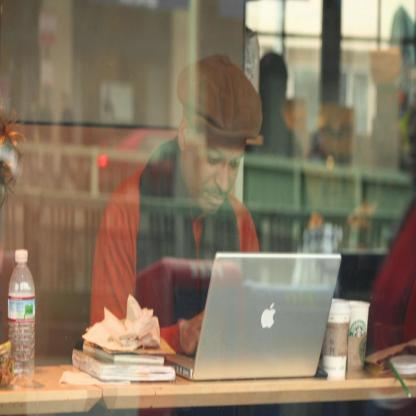board: (165, 252, 341, 378), (8, 249, 36, 385), (322, 300, 350, 380), (348, 300, 369, 374)
